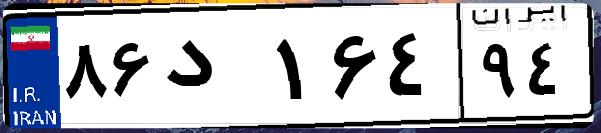1: (270, 28, 330, 110)
4: (385, 28, 445, 110), (525, 38, 570, 115)
6: (330, 28, 385, 110), (110, 28, 158, 98)
8: (57, 26, 110, 100)
9: (475, 38, 525, 113)
د: (158, 20, 270, 120)
